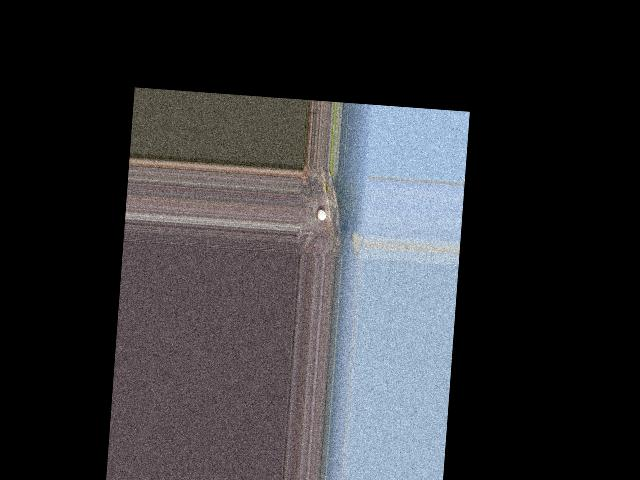egg: (316, 209, 326, 221)
